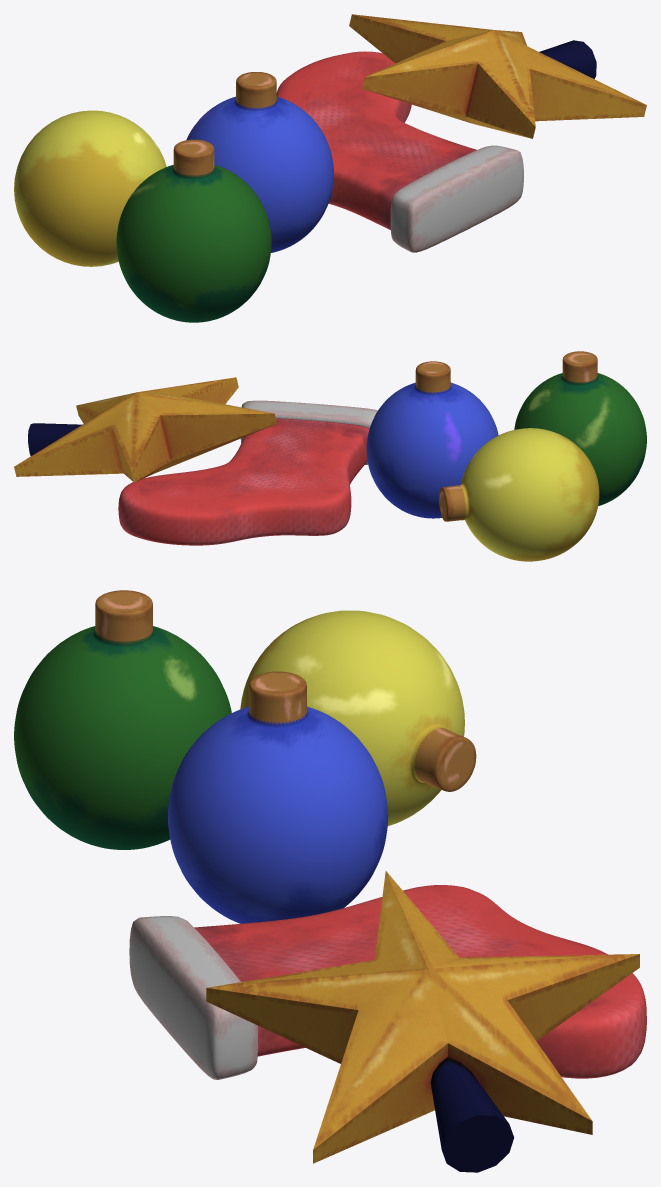
The model's file is ChristmasDecoration Textured.fbx.
3 renders of one model, top to bottom at view 1: azimuth 30°, elevation 25°; view 2: azimuth 150°, elevation 25°; view 3: azimuth 270°, elevation 25°, orthographic. The views are drawn at different scales.
Parts seen in each view (by area): view 1: cd_01, cd_06, cd_02, cd_07, cd_04, cd_03; view 2: cd_01, cd_07, cd_02, cd_04, cd_06, cd_03; view 3: cd_02, cd_04, cd_01, cd_06, cd_07, cd_03.
Boxes of the visible parts, x1=… form: cd_01: x1=276, y1=51, x2=523, y2=252; cd_06: x1=116, y1=139, x2=271, y2=322; cd_02: x1=349, y1=14, x2=646, y2=138; cd_07: x1=14, y1=110, x2=166, y2=266; cd_04: x1=186, y1=72, x2=333, y2=252; cd_03: x1=539, y1=40, x2=596, y2=78; cd_01: x1=118, y1=400, x2=377, y2=545; cd_07: x1=439, y1=428, x2=599, y2=561; cd_02: x1=14, y1=377, x2=276, y2=482; cd_04: x1=366, y1=361, x2=498, y2=518; cd_06: x1=514, y1=351, x2=646, y2=505; cd_03: x1=28, y1=423, x2=81, y2=455; cd_02: x1=206, y1=871, x2=639, y2=1163; cd_04: x1=168, y1=671, x2=388, y2=923; cd_01: x1=129, y1=885, x2=646, y2=1079; cd_06: x1=14, y1=590, x2=231, y2=849; cd_07: x1=240, y1=610, x2=476, y2=825; cd_03: x1=430, y1=1057, x2=514, y2=1172.
Bounding box in the file's own units: 2.84 × 0.7499 × 1.8.
1 material, 1 textured.
